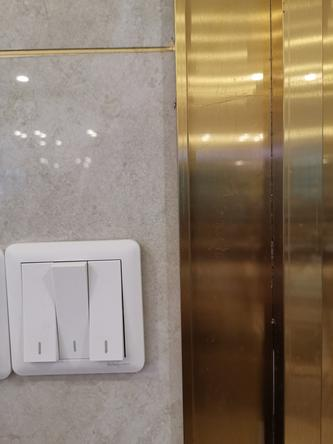switch: (18, 256, 64, 365), (83, 257, 130, 363), (48, 258, 94, 363)
